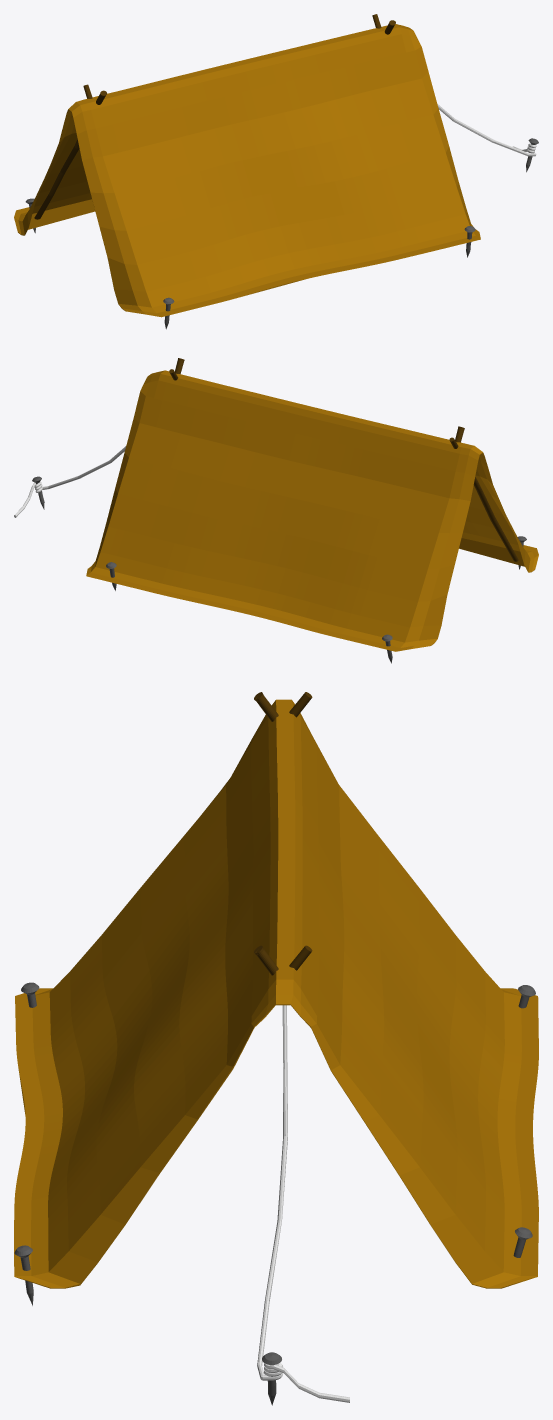
The model's file is Tent.fbx.
3 renders of one model, top to bottom at view 1: azimuth 30°, elevation 25°; view 2: azimuth 150°, elevation 25°; view 3: azimuth 270°, elevation 25°, orthographic. The views are drawn at different scales.
Visible parts, largest first — view 1: pCylinder13; view 2: pCylinder13; view 3: pCylinder13.
Part boxes in pixels (<box>): pCylinder13: <box>14,14,538,329</box>; pCylinder13: <box>14,358,538,663</box>; pCylinder13: <box>14,692,538,1405</box>.
Bounding box in the file's own units: 13 × 5.19 × 7.06.
